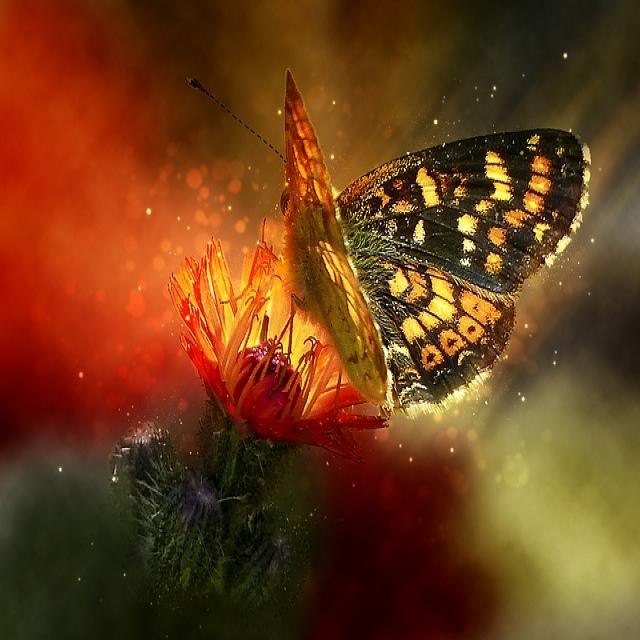butterfly: (281, 72, 586, 413)
